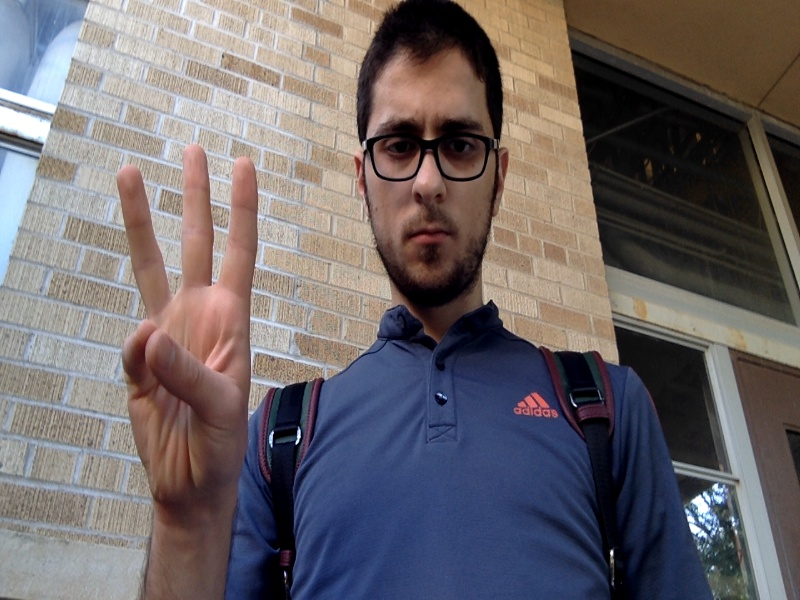3-hand: (113, 145, 259, 523)
